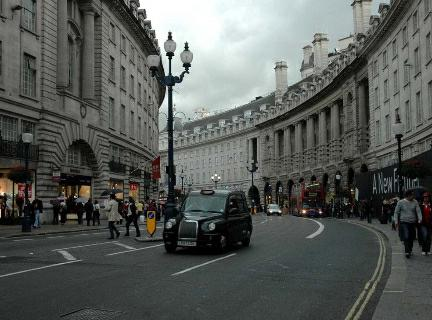吉利汽车-吉利EC8: (158, 189, 260, 260)
